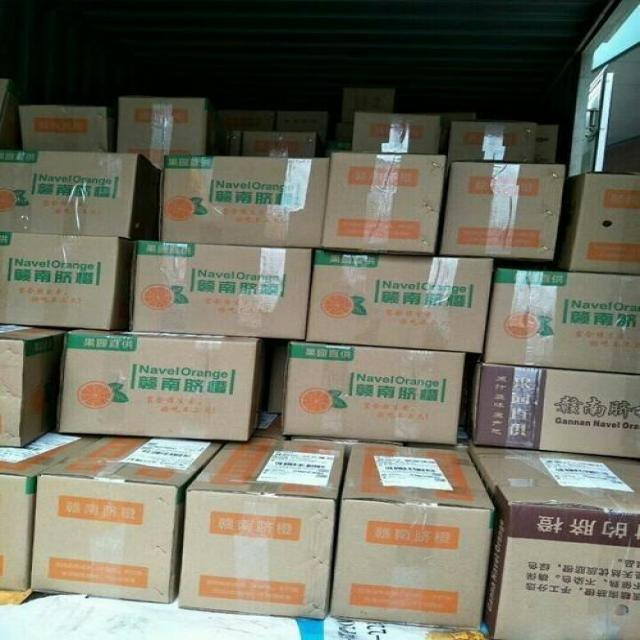box: (470, 439, 640, 640), (174, 437, 348, 616), (334, 440, 494, 630), (34, 438, 213, 598), (55, 313, 268, 445), (304, 243, 492, 365), (277, 336, 460, 443), (481, 262, 640, 378), (477, 354, 640, 466), (134, 244, 317, 342), (160, 158, 327, 253), (0, 152, 155, 241), (0, 231, 127, 334), (324, 152, 450, 252), (446, 156, 556, 264), (556, 166, 640, 271), (17, 109, 115, 158), (120, 96, 190, 157)
